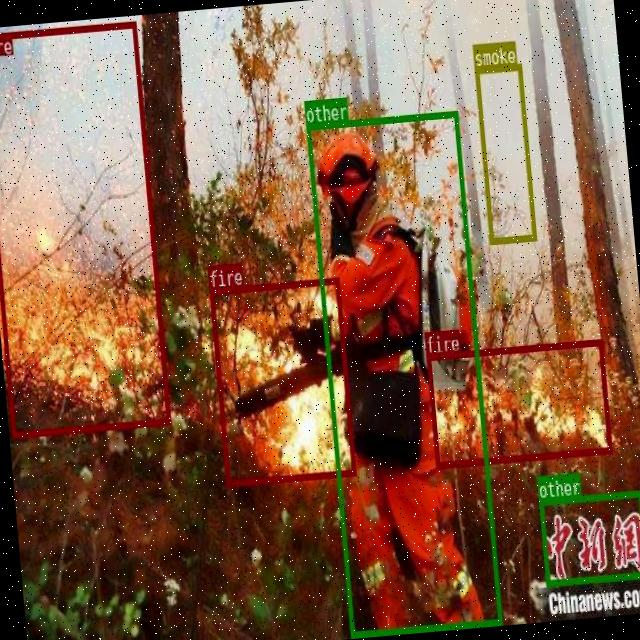fire: (0, 19, 170, 436), (208, 276, 355, 486), (426, 338, 611, 468)
smoke: (474, 62, 536, 243)
